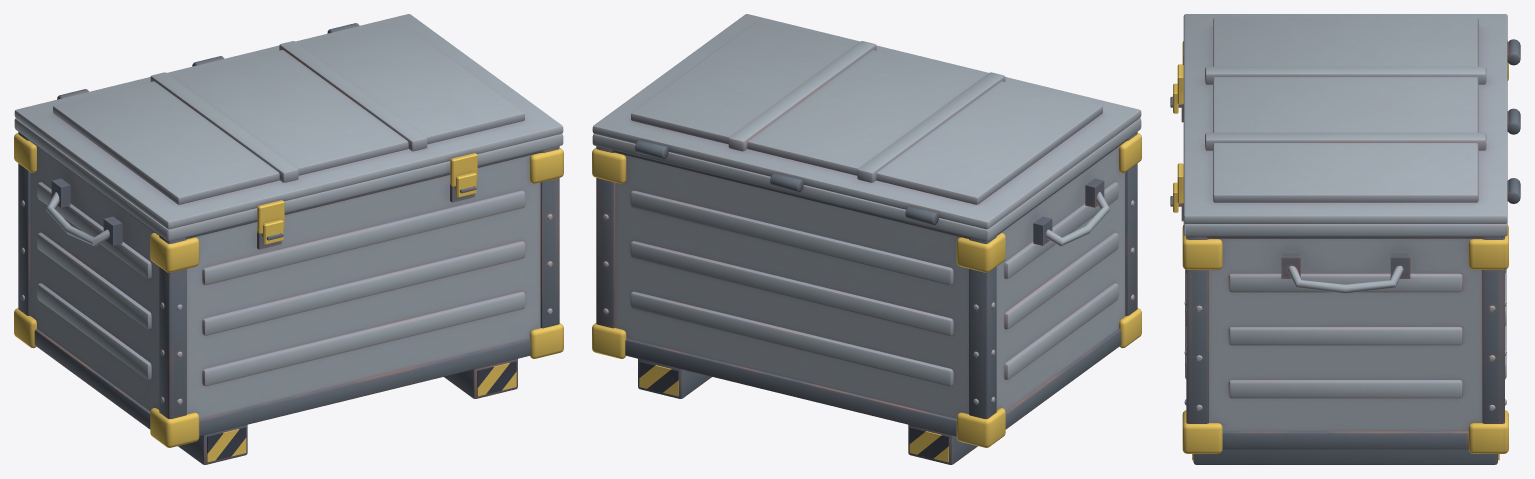
The model's file is metal-crate.glb.
The picture shows the model from 3 angles, left to right: view 1: azimuth 30°, elevation 25°; view 2: azimuth 150°, elevation 25°; view 3: azimuth 270°, elevation 25°; orthographic projection. The views are drawn at different scales.
Visible parts, largest first — view 1: metal-crate_body, metal-crate_lid; view 2: metal-crate_body, metal-crate_lid; view 3: metal-crate_body, metal-crate_lid.
Boxes of the visible parts, x1,y1,x2,y2 form: metal-crate_body: (14,132,563,464); metal-crate_lid: (14,14,563,244); metal-crate_body: (592,132,1141,464); metal-crate_lid: (592,14,1141,240); metal-crate_body: (1170,41,1508,464); metal-crate_lid: (1173,14,1520,236).
Size of the model in its own units: 1.39 by 0.798 by 0.8972.
Materials: 2 (2 with a texture image).
